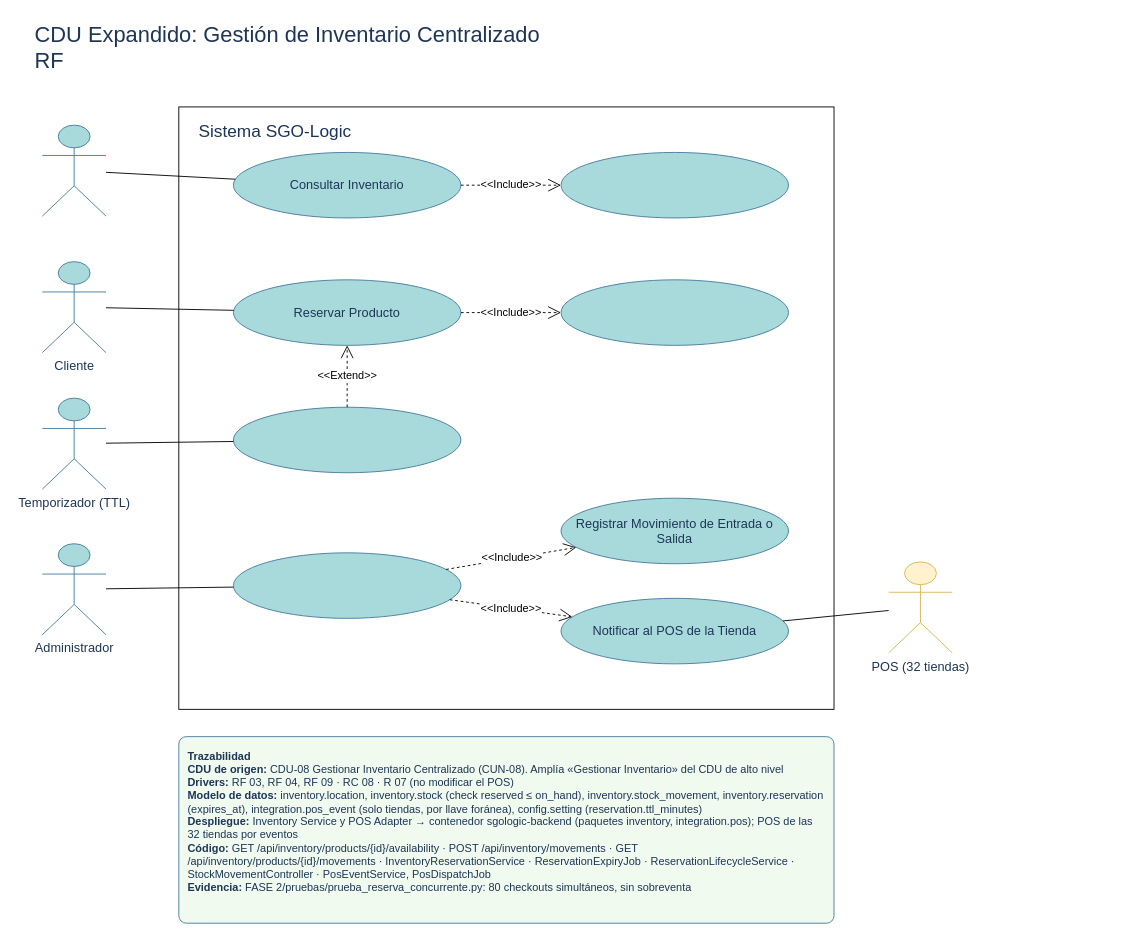
Image size: 1141x939. Some labels were removed from this diagram. The centre of each missing label's shape, as x and y in pixels:
"Actualizar Inventario" belongs at pixel 347 585.
"Consolidar 2 CD y 32 Tiendas" belongs at pixel 674 185.
"Empleado de Tienda" belongs at pixel 73 170.
"Liberar Inventario" belongs at pixel 347 439.
"Verificar Disponibilidad Atómica" belongs at pixel 674 312.
